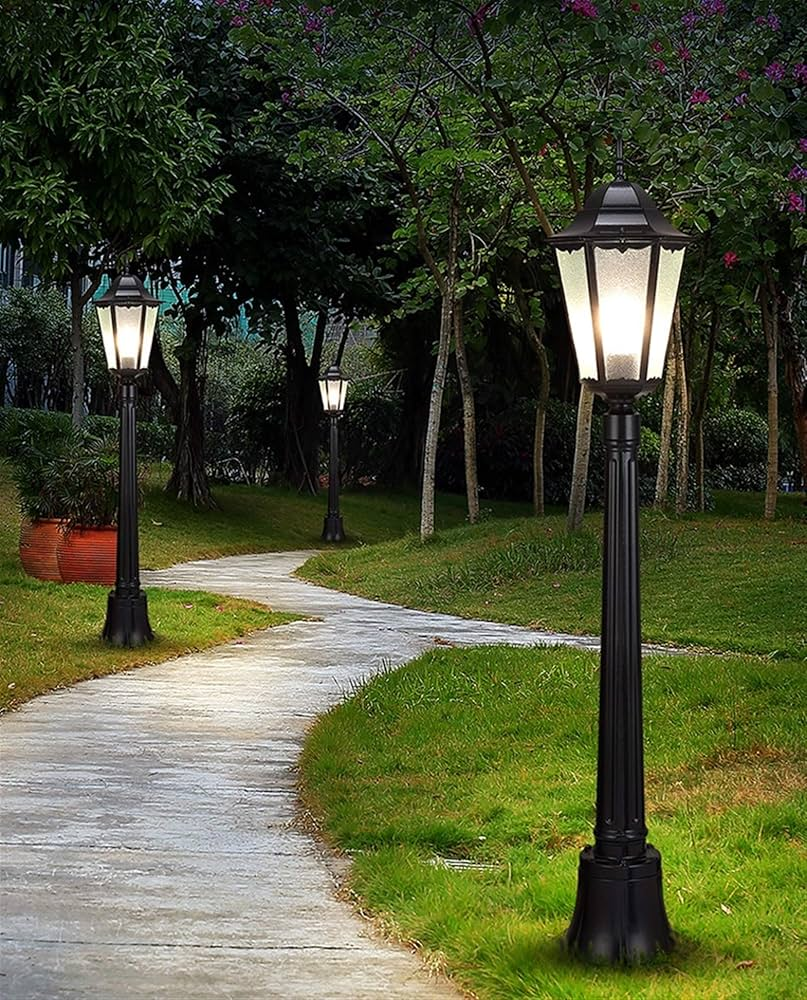Lamp: (544, 127, 703, 964), (77, 236, 173, 648), (295, 358, 374, 551)
